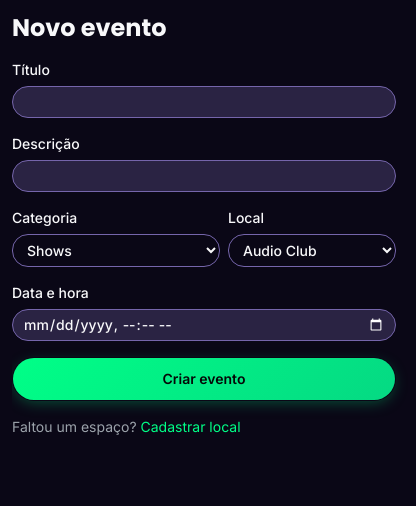
página Novo evento › mostra a mensagem genérica para um código de erro desconhecido
In the field labelled "Título": (204, 102) [12,86,396,118], type "Rock Night"
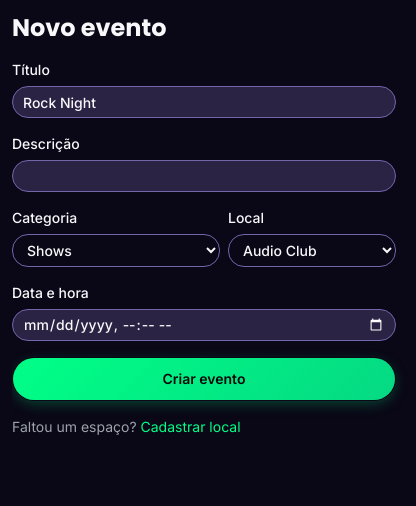
In the field labelled "Descrição": (204, 176) [12,160,396,192], type "Uma noite de rock com bandas convidadas."
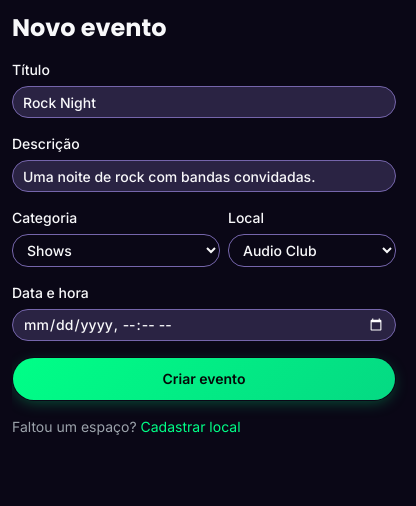
Select "Shows" in the dropdown labelled "Categoria": (116, 250) [12,234,220,267]
Select "Audio Club" in the dropdown labelled "Local": (312, 250) [228,234,396,267]
In the field labelled "Data e hora": (204, 325) [12,309,396,341], type "2026-11-20T20:00"
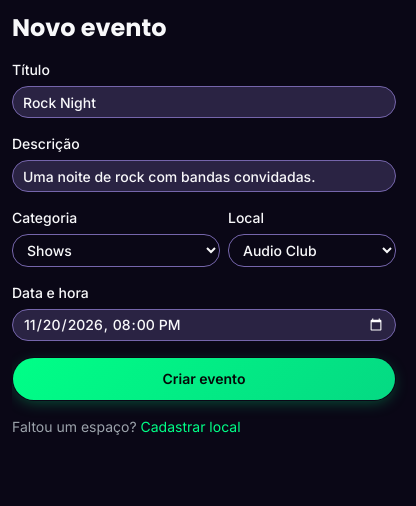
Click the button "Criar evento": (204, 379) [12,357,396,401]
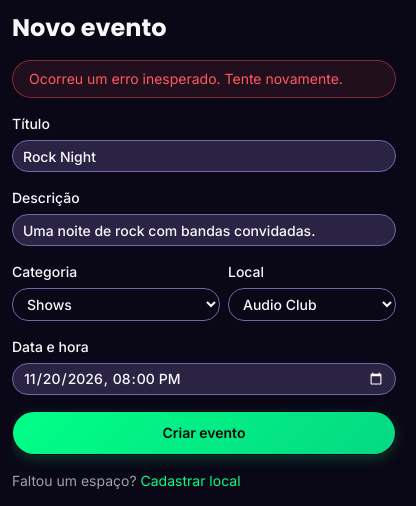
Expected: the message reads "Ocorreu um erro inesperado. Tente novamente.", [29,70,343,87]
